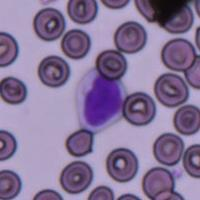M: (72, 66, 127, 134)
